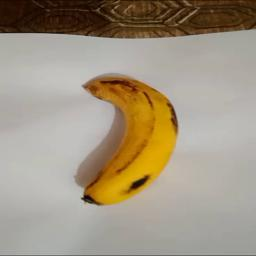Banana Semifresh: (77, 75, 181, 208)
